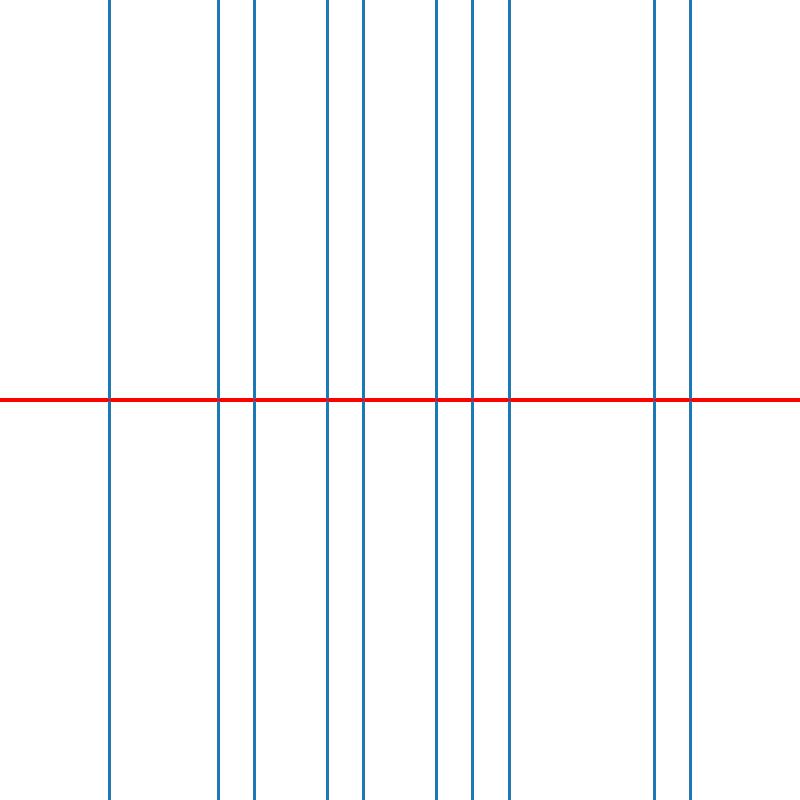root: (650, 396, 658, 404), (250, 396, 258, 404), (432, 396, 440, 404), (505, 396, 512, 404), (360, 396, 367, 404), (469, 396, 476, 404), (687, 396, 694, 404), (323, 396, 330, 404), (214, 396, 221, 404), (105, 396, 112, 404)
